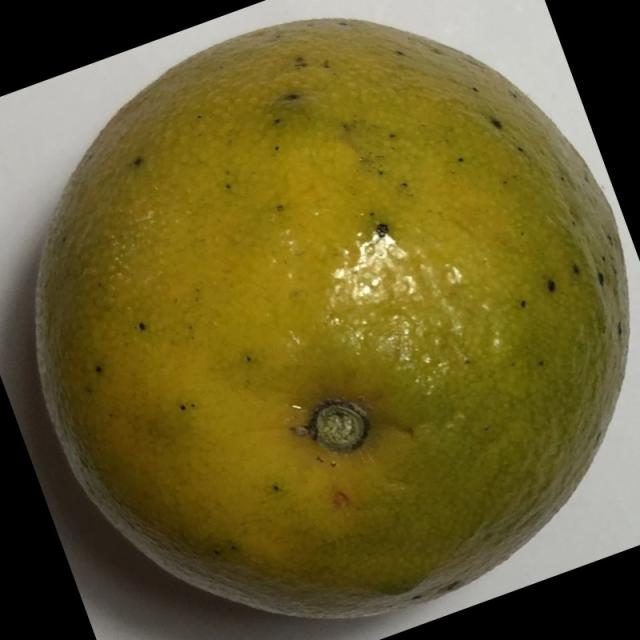black spot: (27, 4, 635, 620)
